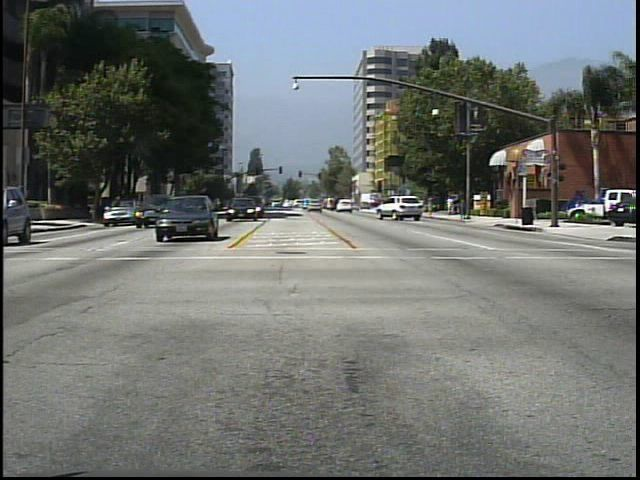person: (425, 193, 435, 217), (446, 194, 457, 215)
